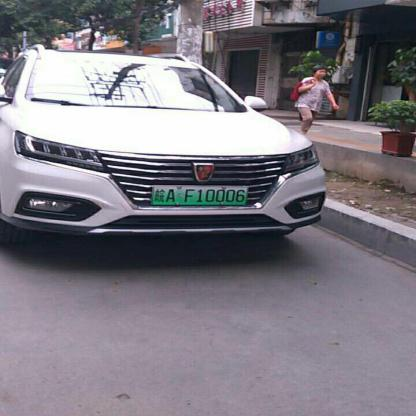lp: (151, 185, 247, 204)
